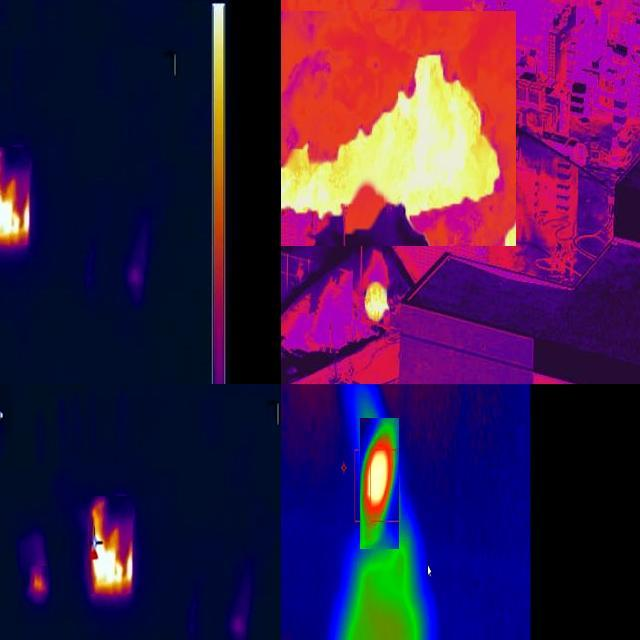fire: (285, 55, 518, 245), (361, 419, 400, 550), (90, 497, 134, 595), (1, 148, 31, 246), (362, 274, 399, 326), (31, 568, 48, 600)
